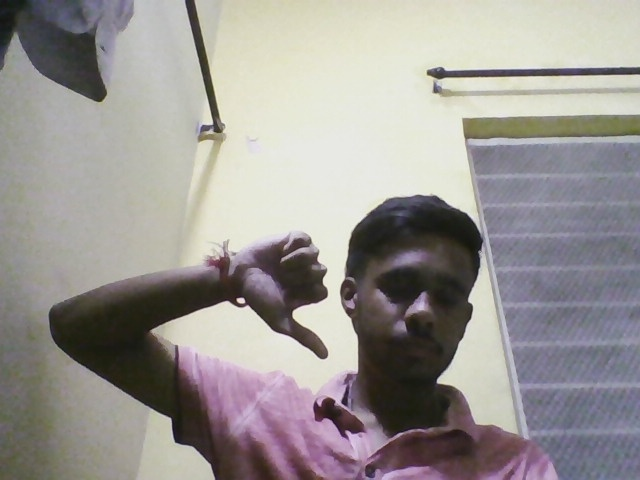no: (233, 208, 335, 368)
